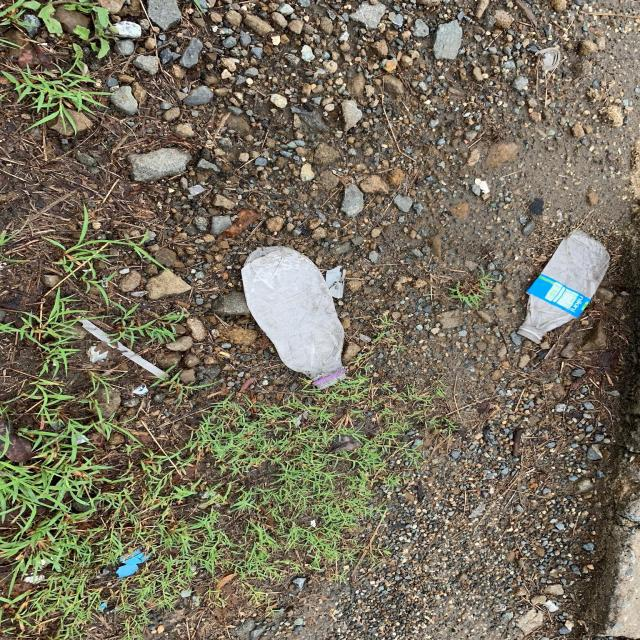litter: (242, 245, 348, 389), (518, 231, 610, 345), (78, 318, 168, 381)
